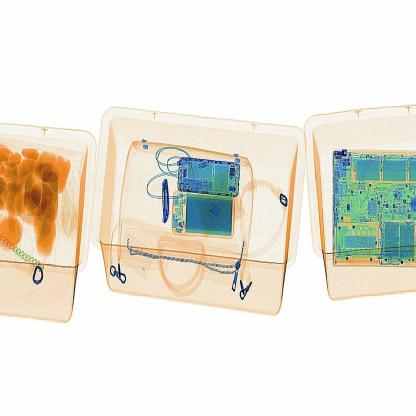knife: (152, 171, 175, 230)
